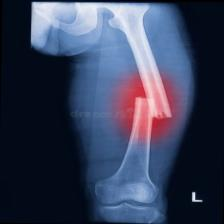open-compound-fracture: (26, 0, 204, 224)
